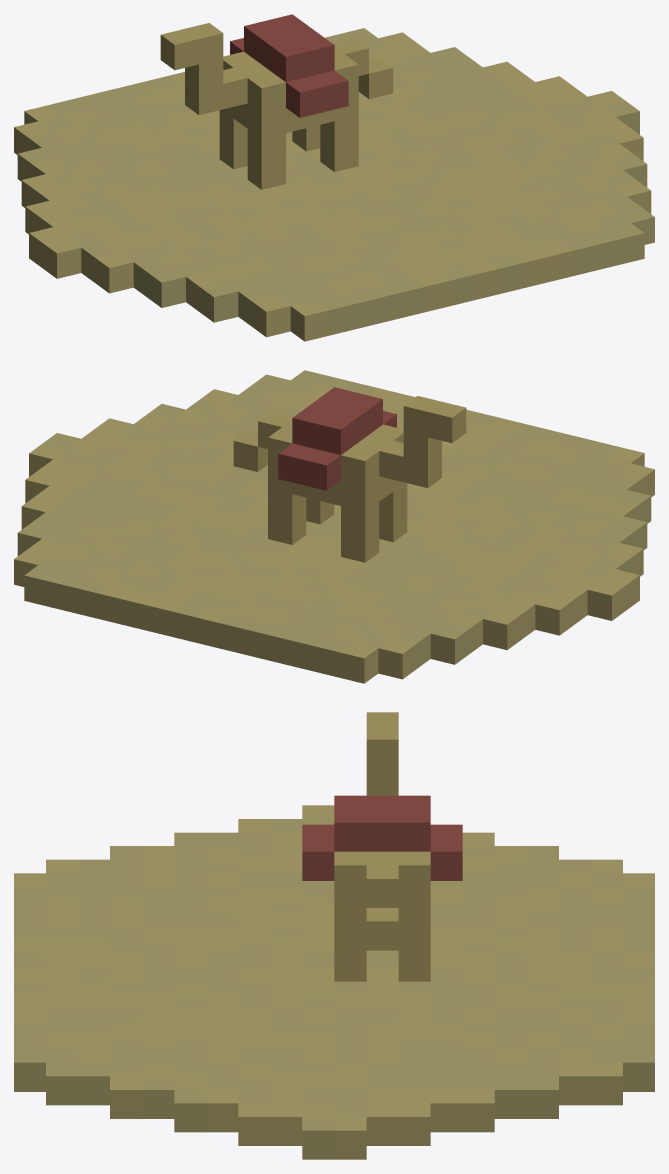
Rendered from overworld-48-sand_camel.obj.
The picture shows the model from 3 angles, top to bottom: view 1: azimuth 30°, elevation 25°; view 2: azimuth 150°, elevation 25°; view 3: azimuth 270°, elevation 25°; orthographic projection. The views are drawn at different scales.
Visible parts, largest first — view 1: sand_camel; view 2: sand_camel; view 3: sand_camel.
Part boxes in pixels (<box>): sand_camel: <box>14,14,654,341</box>; sand_camel: <box>14,370,654,683</box>; sand_camel: <box>14,712,654,1159</box>.
Bounding box in the file's own units: 2.4 × 0.7 × 2.
Materials: 1 (1 with a texture image).
